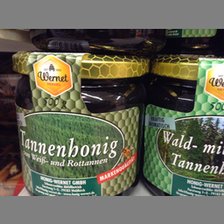honey: (10, 51, 148, 196)
